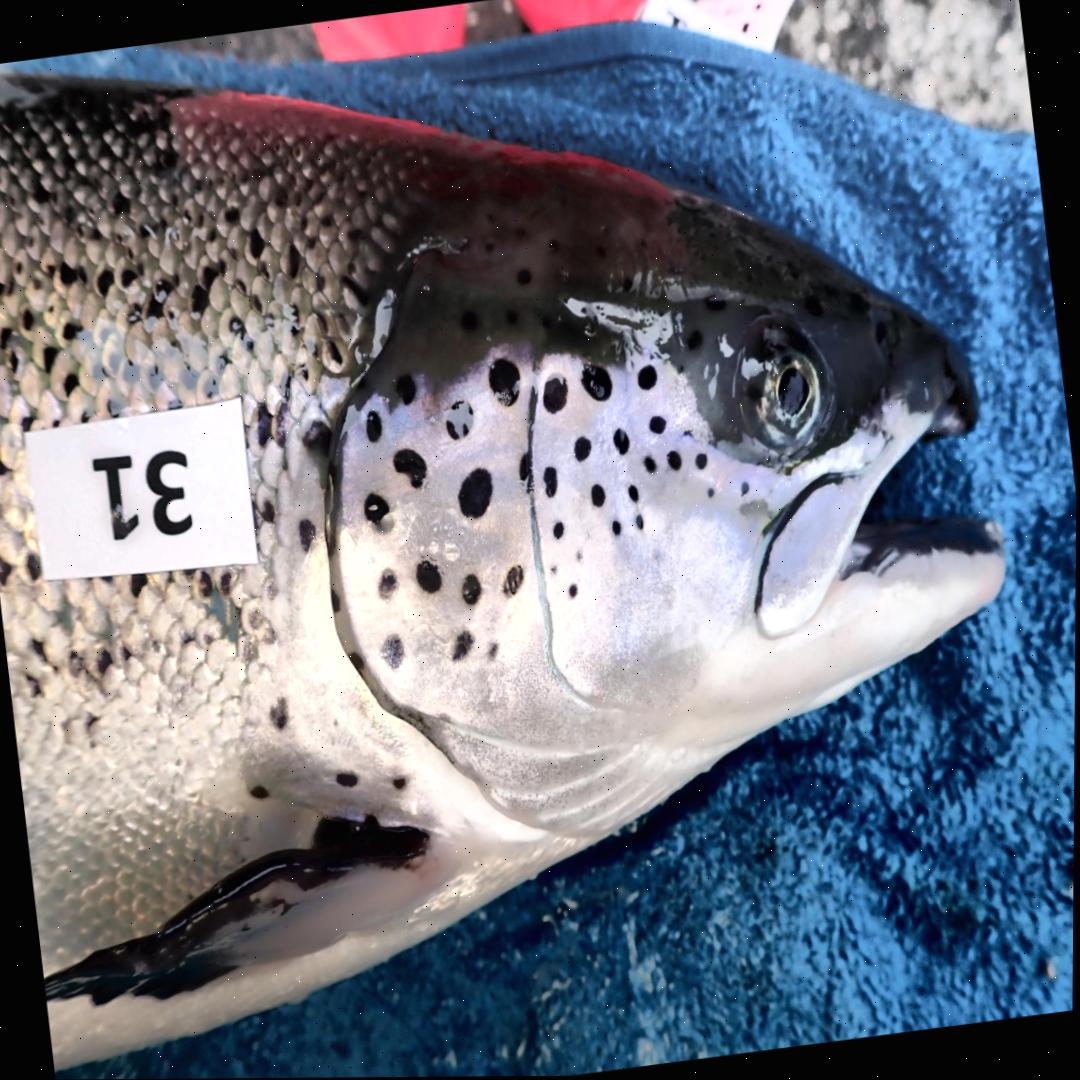spot: (457, 468, 493, 519), (488, 359, 519, 406), (363, 491, 395, 534), (392, 449, 426, 489), (445, 399, 473, 441), (581, 363, 611, 402), (542, 375, 568, 414), (416, 559, 441, 594), (380, 635, 404, 667), (451, 629, 473, 662), (461, 573, 481, 606), (502, 565, 524, 595), (394, 375, 416, 404), (364, 411, 382, 443), (518, 451, 532, 492), (377, 570, 396, 599), (572, 436, 592, 462), (637, 364, 657, 390), (543, 466, 557, 498), (612, 428, 628, 454), (590, 483, 604, 506), (649, 415, 665, 435), (666, 450, 682, 470), (348, 652, 364, 672), (486, 642, 499, 661), (643, 456, 657, 473), (695, 452, 708, 470), (331, 588, 340, 613), (552, 522, 564, 540), (627, 484, 639, 501), (567, 583, 578, 598), (739, 481, 750, 496), (611, 521, 621, 535), (634, 515, 644, 529), (682, 430, 692, 438), (576, 549, 582, 562), (707, 488, 714, 497), (550, 566, 557, 575)
